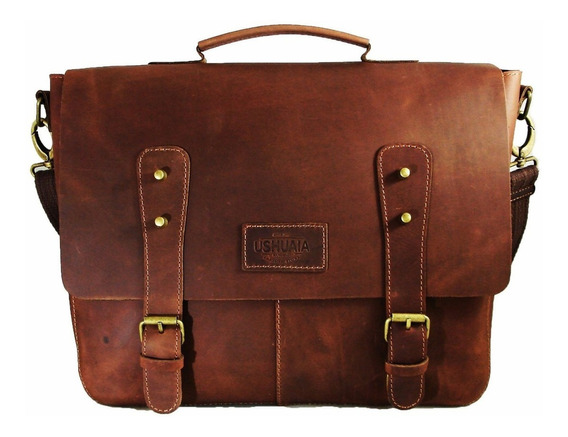cartera: (25, 20, 544, 414)
